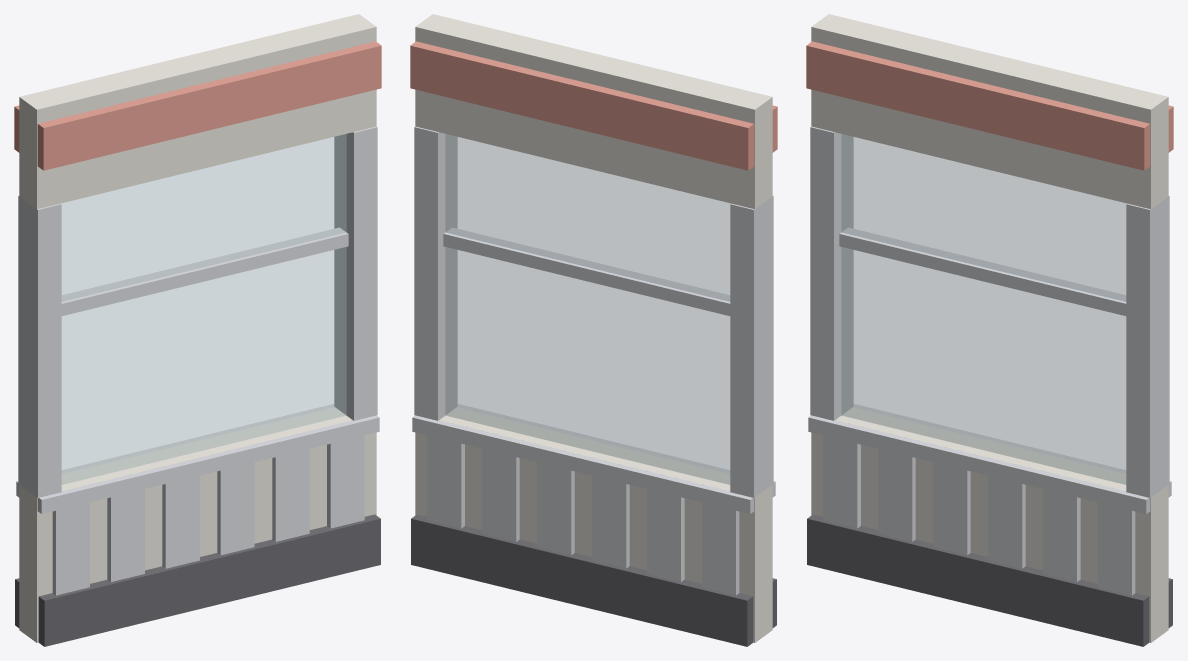
File: retro-diner-and-roadside-motel-diner-window-bay-b0a599bd__37318.glb
3 views of the same model, side by side, from view 1: azimuth 30°, elevation 25°; view 2: azimuth 150°, elevation 25°; view 3: azimuth 330°, elevation 25° (orthographic).
Parts seen in each view (by area): view 1: diner-window-bay-glass, diner-window-bay-chrome, diner-window-bay-cream, diner-window-bay-asphalt, diner-window-bay-coral; view 2: diner-window-bay-glass, diner-window-bay-chrome, diner-window-bay-cream, diner-window-bay-asphalt, diner-window-bay-coral; view 3: diner-window-bay-glass, diner-window-bay-chrome, diner-window-bay-cream, diner-window-bay-asphalt, diner-window-bay-coral.
Boxes of the visible parts, <box> form: diner-window-bay-glass: <box>61,134,346,484</box>; diner-window-bay-chrome: <box>16,126,379,595</box>; diner-window-bay-cream: <box>19,14,376,642</box>; diner-window-bay-asphalt: <box>15,514,380,646</box>; diner-window-bay-coral: <box>14,41,381,170</box>; diner-window-bay-glass: <box>445,134,730,484</box>; diner-window-bay-chrome: <box>412,126,775,595</box>; diner-window-bay-cream: <box>415,14,772,642</box>; diner-window-bay-asphalt: <box>411,514,776,646</box>; diner-window-bay-coral: <box>410,41,777,170</box>; diner-window-bay-glass: <box>841,134,1126,484</box>; diner-window-bay-chrome: <box>808,126,1171,595</box>; diner-window-bay-cream: <box>811,14,1168,642</box>; diner-window-bay-asphalt: <box>807,514,1172,646</box>; diner-window-bay-coral: <box>806,41,1173,170</box>.
Size of the model in its own units: 2 by 3 by 0.3.
